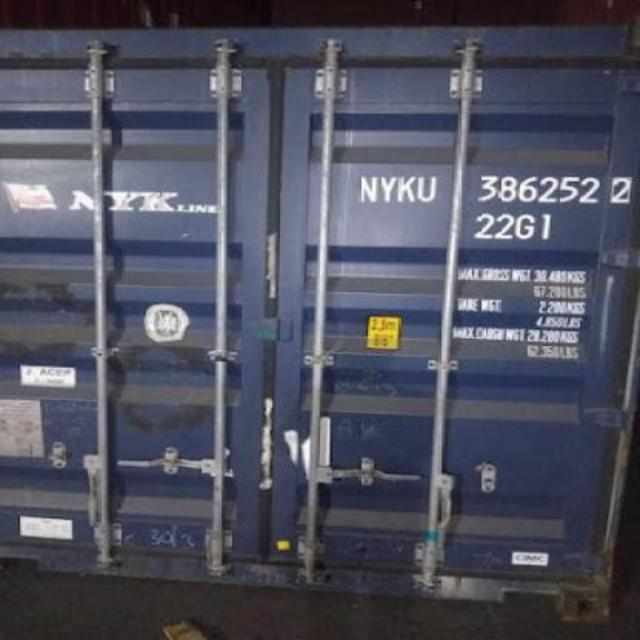2: (576, 162, 600, 215), (536, 162, 560, 210), (612, 172, 636, 204)
3: (474, 166, 494, 208)
5: (558, 162, 576, 214)
6: (518, 163, 538, 207)
8: (498, 164, 518, 208)
K: (400, 172, 416, 206)
N: (350, 169, 378, 209)
U: (414, 171, 438, 207)
Y: (376, 172, 396, 206)
